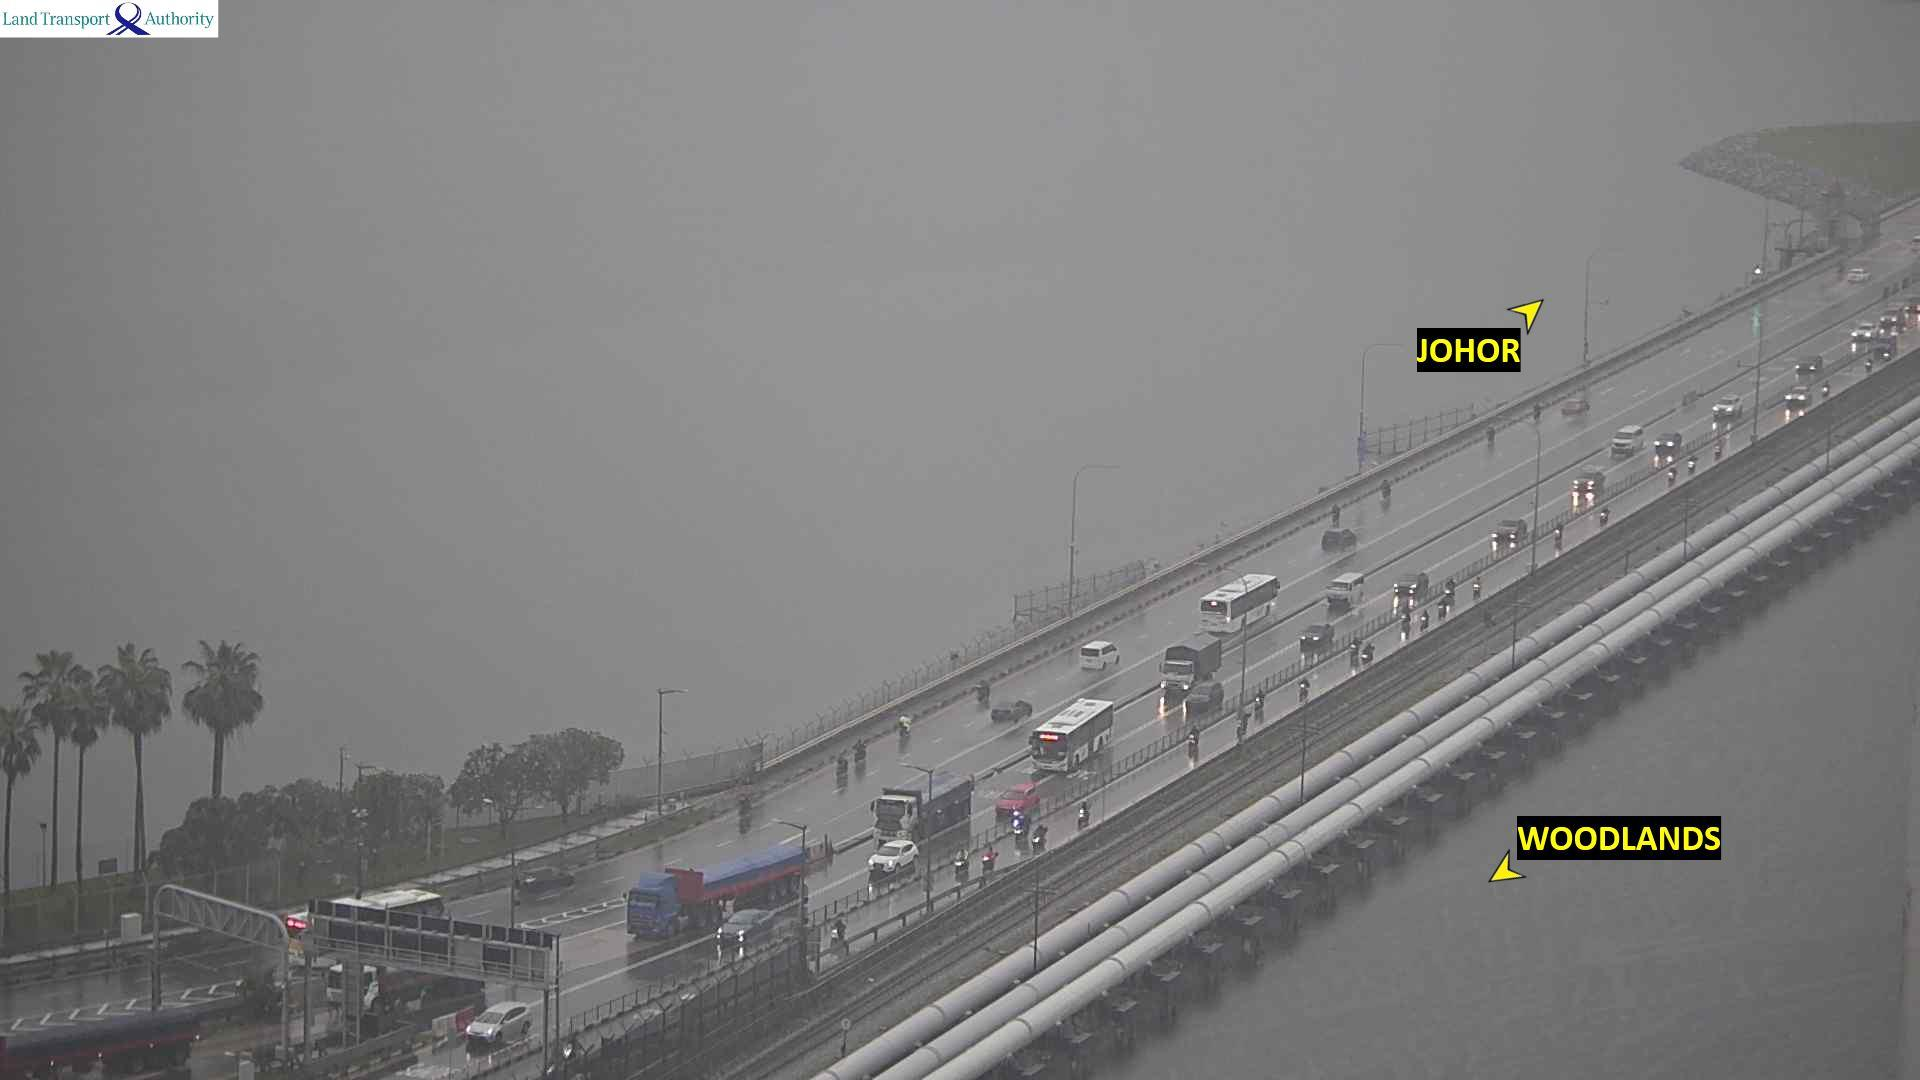vehicle-causeway-johor: (311, 886, 442, 913), (1203, 575, 1283, 614), (522, 868, 572, 895), (1076, 639, 1119, 669), (730, 792, 753, 837), (896, 715, 913, 763), (1846, 265, 1882, 287), (1327, 523, 1356, 549), (984, 684, 1005, 714), (1566, 398, 1590, 419), (834, 750, 845, 789), (854, 741, 865, 774)
vehicle-causeway-singapore: (630, 849, 800, 948), (873, 772, 974, 842), (1033, 704, 1116, 745), (1165, 634, 1222, 693), (468, 1005, 533, 1045), (868, 839, 917, 878), (1187, 684, 1226, 715), (1328, 574, 1362, 608), (1608, 425, 1646, 455), (1497, 517, 1528, 547), (1299, 624, 1333, 649), (1394, 572, 1428, 595), (1795, 356, 1822, 384), (1651, 432, 1684, 452), (952, 850, 971, 882), (1786, 385, 1811, 409), (1186, 726, 1202, 762), (978, 844, 997, 874), (1029, 824, 1049, 851), (1714, 395, 1741, 415), (1574, 469, 1597, 492), (1075, 797, 1093, 826), (1297, 676, 1314, 698), (1400, 608, 1408, 637), (1363, 644, 1375, 663), (1443, 578, 1455, 596), (1256, 690, 1267, 709), (1351, 640, 1359, 661), (1421, 609, 1429, 627), (1438, 603, 1448, 617), (1475, 577, 1481, 598)
